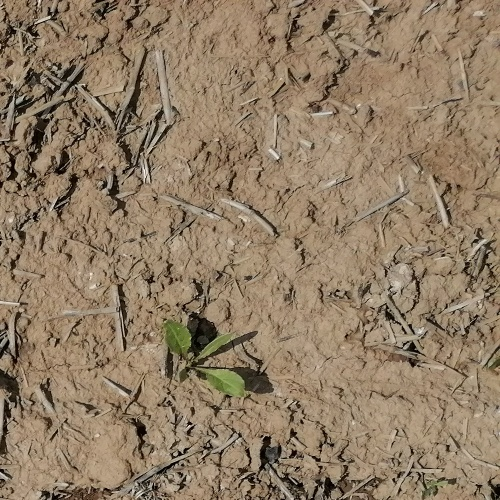beet: (164, 320, 246, 398)
